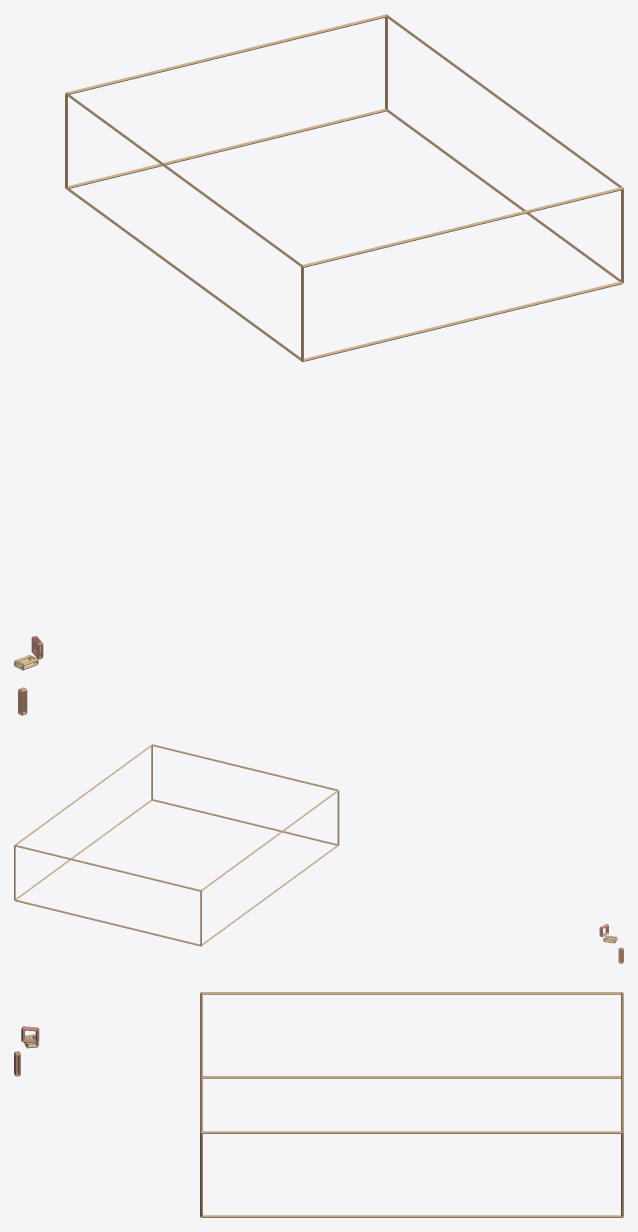
File: hello_onlybox.glb
The picture shows the model from 3 angles, top to bottom: view 1: azimuth 30°, elevation 25°; view 2: azimuth 150°, elevation 25°; view 3: azimuth 270°, elevation 25°; orthographic projection. The views are drawn at different scales.
Visible parts, largest first — view 1: world; view 2: world; view 3: world.
Part boxes in pixels (x1=…): world: x1=14, y1=14, x2=623, y2=715; world: x1=14, y1=744, x2=623, y2=963; world: x1=14, y1=992, x2=623, y2=1217.
Bounding box in the file's own units: 9.42 × 3.56 × 7.88.
